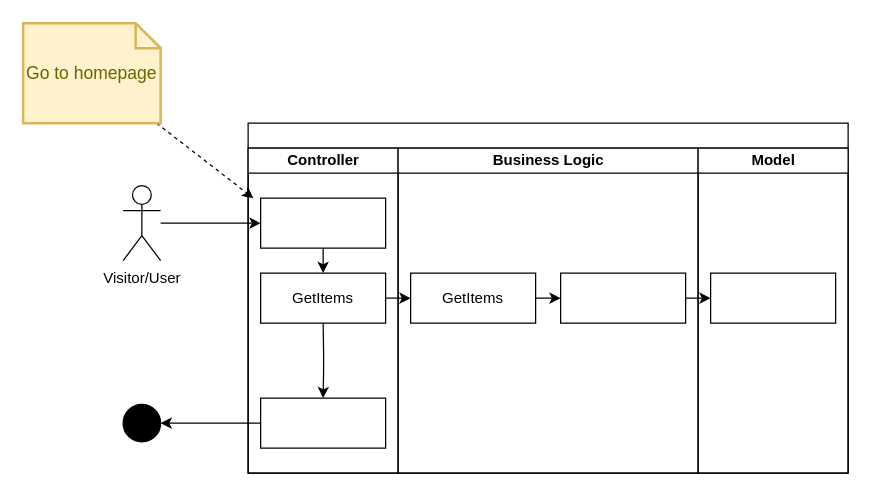
Image size: 870x495. Some labels were removed from this diagram. The shapes that lost their labels are listed below. From the top down, each one's centre as x and y in pixels, then its label:
At point 322,222: "Initialize".
At point 622,297: "FilterItems".
At point 772,297: "GetItemsUsingFilter".
At point 322,422: "ShowItems".
